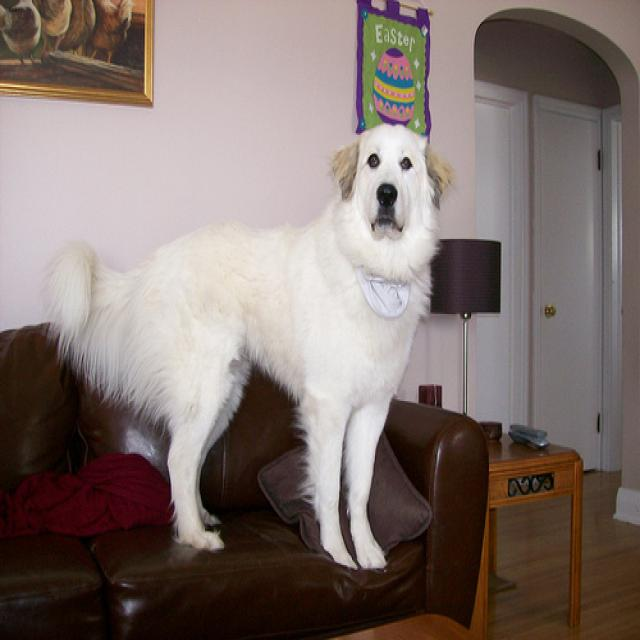dog-great_pyrenees: (38, 113, 458, 579)
